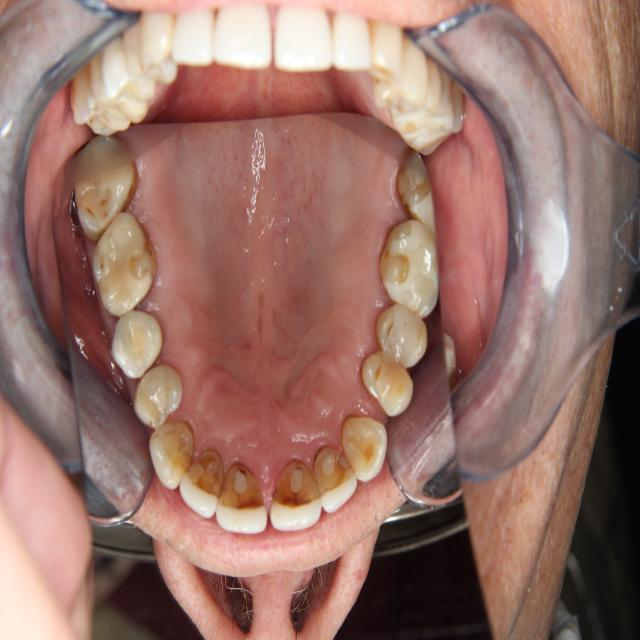tooth: (67, 130, 143, 247), (88, 209, 159, 320), (374, 216, 443, 322), (392, 138, 447, 233), (107, 306, 171, 383), (358, 342, 419, 422), (213, 455, 270, 540), (266, 456, 325, 535), (372, 295, 430, 373), (144, 417, 199, 497), (129, 359, 186, 432), (340, 406, 389, 487), (177, 442, 225, 523), (311, 441, 360, 517)
